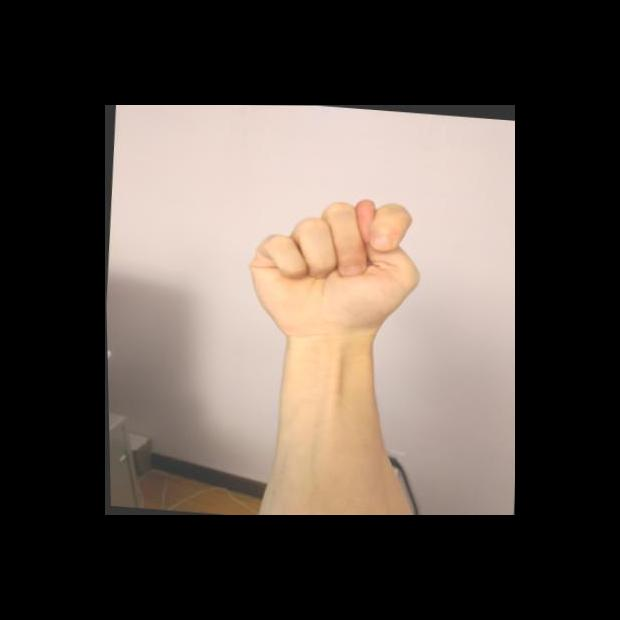S: (238, 188, 431, 354)
